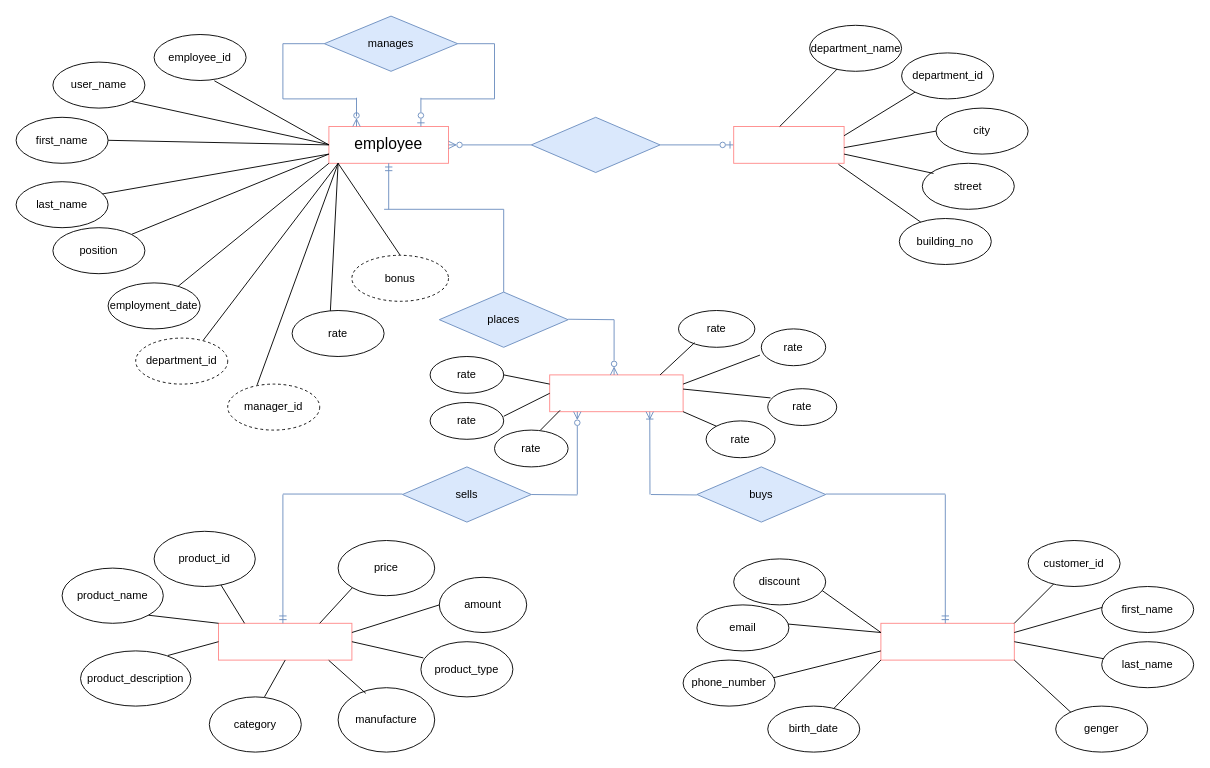
This 1210x768 diagram has some shape labels left out. Each missing label, with the box of its shape:
customer: (880, 622, 1014, 660)
department: (733, 126, 844, 163)
orders: (549, 374, 683, 412)
product: (218, 622, 352, 660)
works_for: (530, 116, 660, 172)
